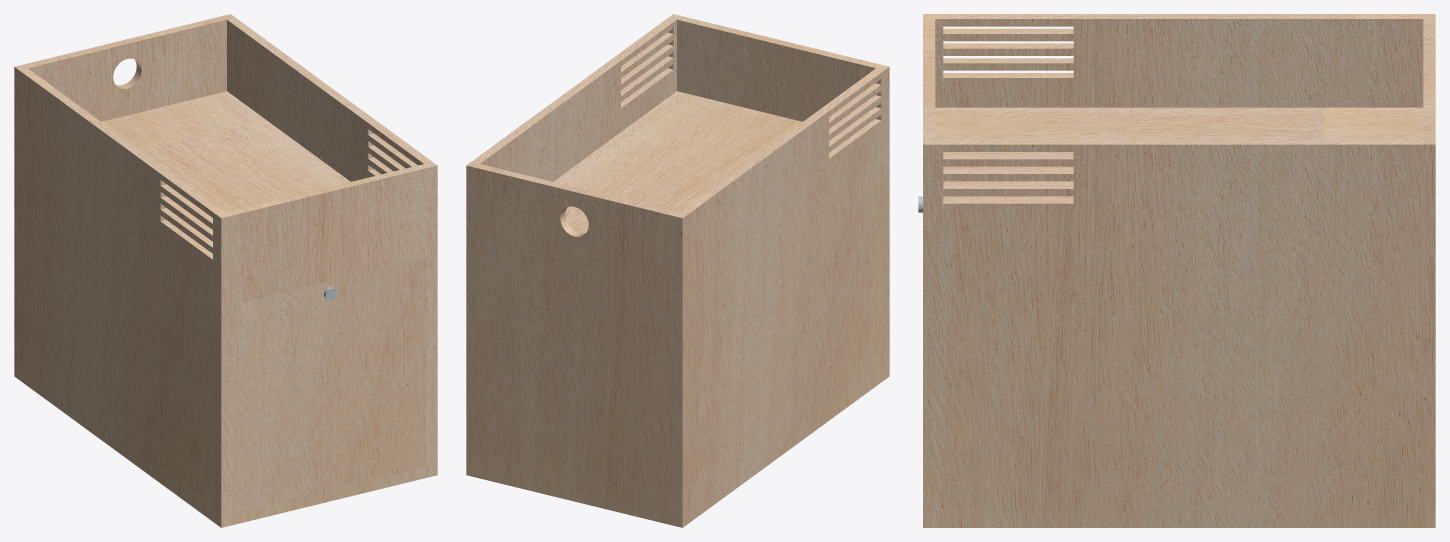
The model's file is meuble-glaciere.dae.
3 renders of one model, left to right at view 1: azimuth 30°, elevation 25°; view 2: azimuth 150°, elevation 25°; view 3: azimuth 270°, elevation 25°, orthographic. The views are drawn at different scales.
Parts seen in each view (by area): view 1: Planche_gauche, Portière_MG, Planche_de_face_MG, Planche_haut_MG, Planche_fond_MG, Planche_droite; view 2: Planche_fond_MG, Planche_gauche, Planche_haut_MG, Planche_de_face_MG, Planche_droite; view 3: Planche_droite (×5), Planche_gauche (×5), Planche_haut_MG, Planche_fond_MG, Planche_de_face_MG.
Boxes of the visible parts, <box> form: Planche_gauche: <box>19,68,224,523</box>; Portière_MG: <box>232,257,426,512</box>; Planche_de_face_MG: <box>216,162,437,527</box>; Planche_haut_MG: <box>101,91,350,212</box>; Planche_fond_MG: <box>14,14,234,379</box>; Planche_droite: <box>227,17,432,181</box>; Planche_fond_MG: <box>466,162,687,527</box>; Planche_gauche: <box>679,68,884,523</box>; Planche_haut_MG: <box>553,91,802,233</box>; Planche_de_face_MG: <box>669,14,889,379</box>; Planche_droite: <box>471,17,676,181</box>; Planche_droite (×5): <box>935,139,1423,527</box>; Planche_gauche (×5): <box>935,14,1423,107</box>; Planche_haut_MG: <box>935,107,1423,198</box>; Planche_fond_MG: <box>1423,14,1435,527</box>; Planche_de_face_MG: <box>923,14,935,527</box>.
Size of the model in its own units: 14.96 by 25.03 by 20.47.
Materials: 3 (2 with a texture image).
